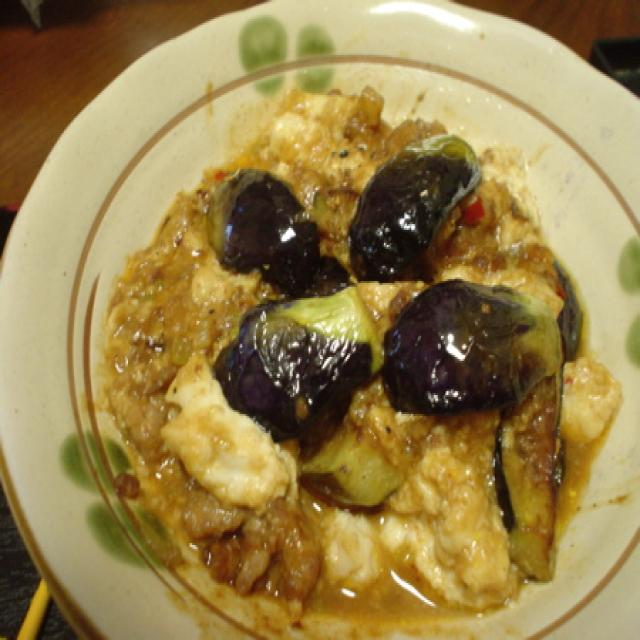鸡蛋料理: (135, 102, 640, 640)
